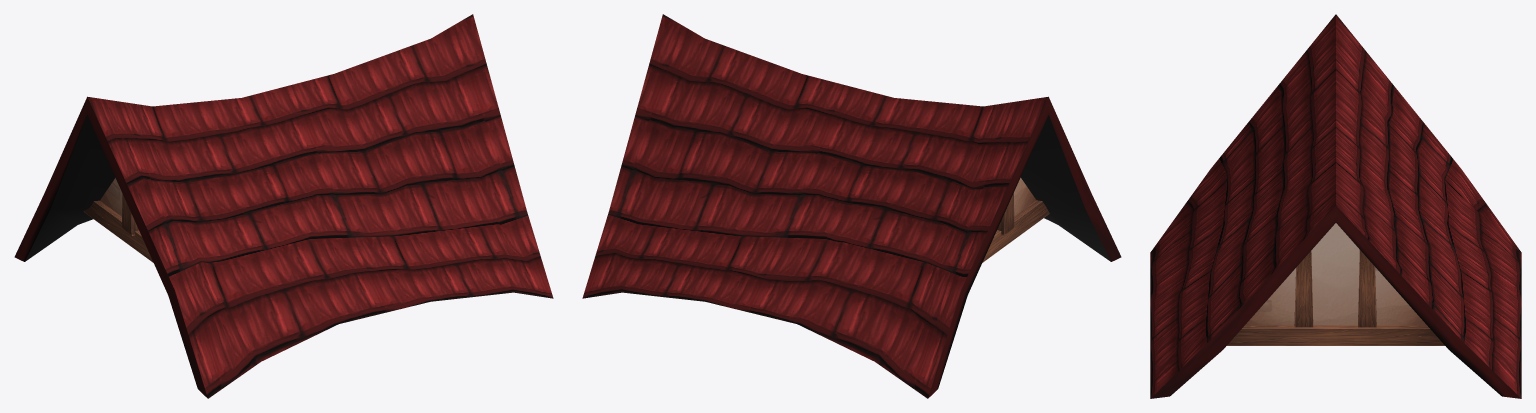
Rendered from roof1.fbx.
3 views of the same model, side by side, from view 1: azimuth 30°, elevation 25°; view 2: azimuth 150°, elevation 25°; view 3: azimuth 270°, elevation 25° (orthographic). The views are drawn at different scales.
Parts seen in each view (by area): view 1: polySurface53; view 2: polySurface53; view 3: polySurface53.
Boxes of the visible parts, x1,y1,x2,y2 form: polySurface53: (14, 14, 553, 398); polySurface53: (582, 14, 1121, 398); polySurface53: (1150, 14, 1521, 398).
Size of the model in its own units: 7.19 by 4.22 by 6.25.
